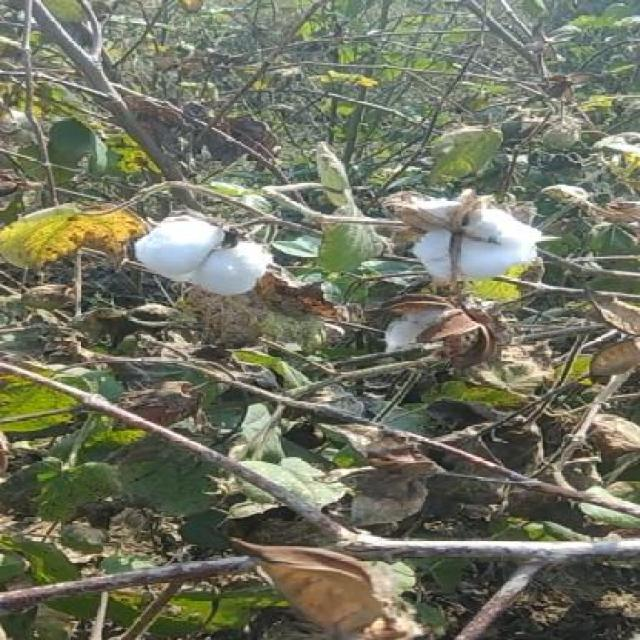cotton_ready: (388, 188, 555, 289), (121, 215, 284, 299)
